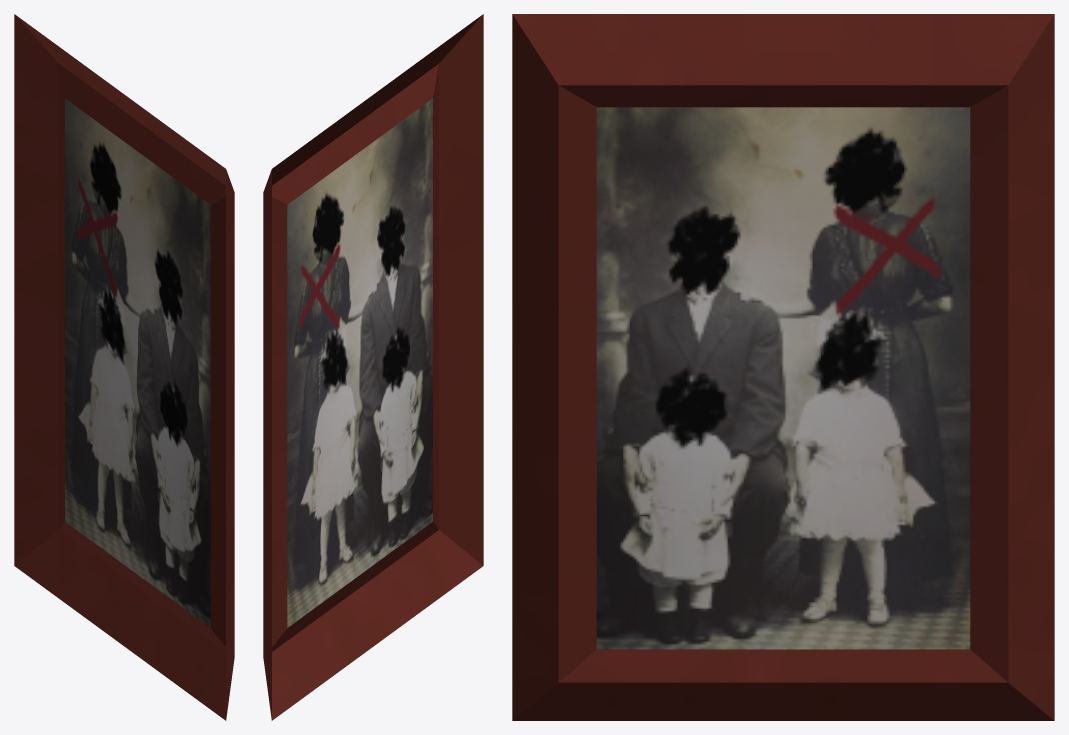
The model's file is Cuadro7.fbx.
The picture shows the model from 3 angles, left to right: view 1: azimuth 30°, elevation 25°; view 2: azimuth 150°, elevation 25°; view 3: azimuth 270°, elevation 25°; orthographic projection. The views are drawn at different scales.
Visible parts, largest first — view 1: Cuadro.005; view 2: Cuadro.005; view 3: Cuadro.005.
Part boxes in pixels (x1,y1,x2,y2): Cuadro.005: (14,14,234,720); Cuadro.005: (263,14,483,720); Cuadro.005: (512,14,1054,720).
Bounding box in the file's own units: 4.05 × 80.81 × 56.16.
